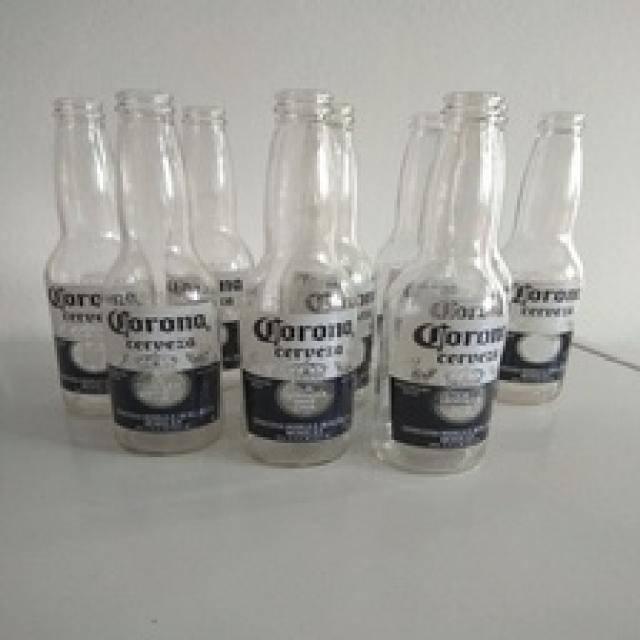garbage: (5, 52, 618, 498)
